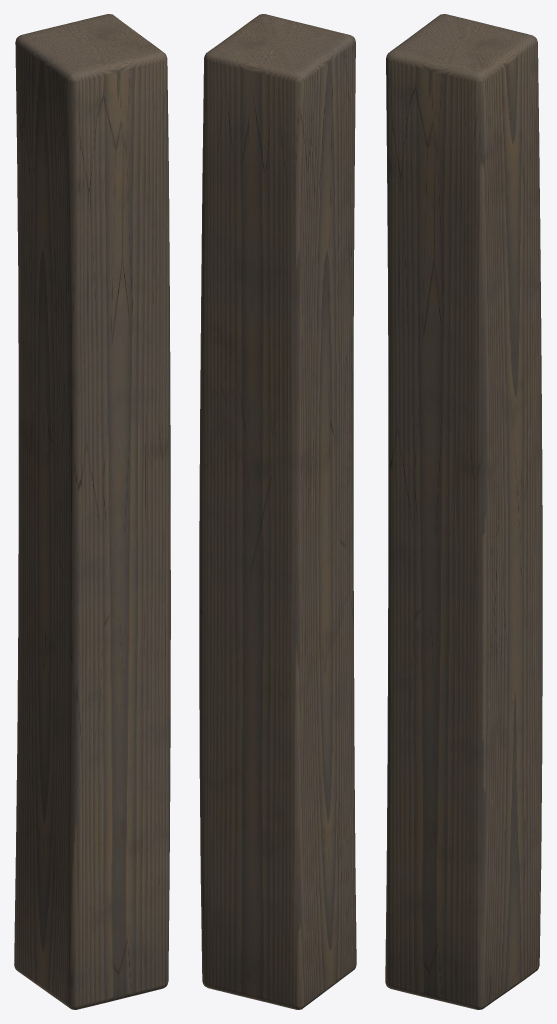
File: post_corner.glb
3 renders of one model, left to right at view 1: azimuth 30°, elevation 25°; view 2: azimuth 150°, elevation 25°; view 3: azimuth 330°, elevation 25°, orthographic.
Visible parts, largest first — view 1: post_corner; view 2: post_corner; view 3: post_corner.
Part boxes in pixels (x1,y1,x2,y2): post_corner: (14,14,170,1009); post_corner: (199,14,356,1009); post_corner: (385,14,542,1009).
Bounding box in the file's own units: 0.2925 × 2.5 × 0.2874.
1 material, 1 textured.
